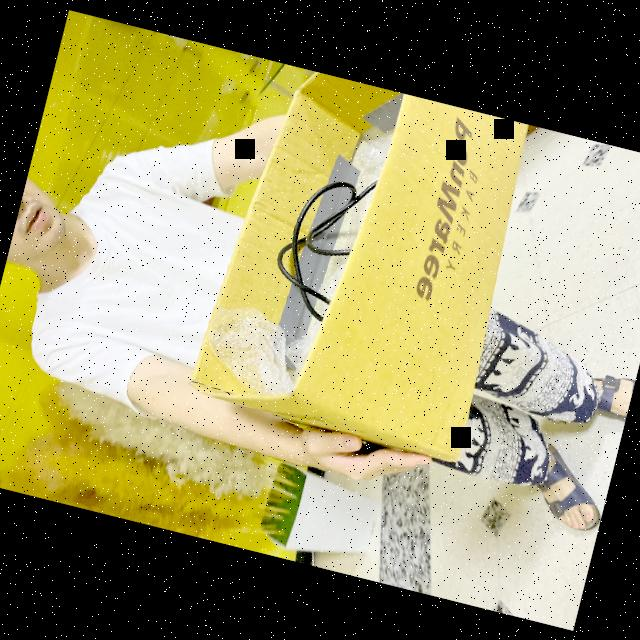cardboard_box: (178, 59, 546, 468)
